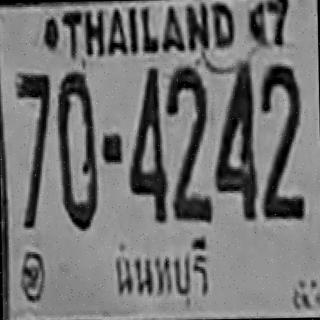N00: (55, 70, 98, 229)
N02: (164, 68, 208, 196), (260, 90, 303, 217), (259, 64, 301, 190), (170, 102, 210, 219)
N04: (212, 59, 256, 219), (126, 65, 166, 222)
P37: (103, 236, 219, 309)
